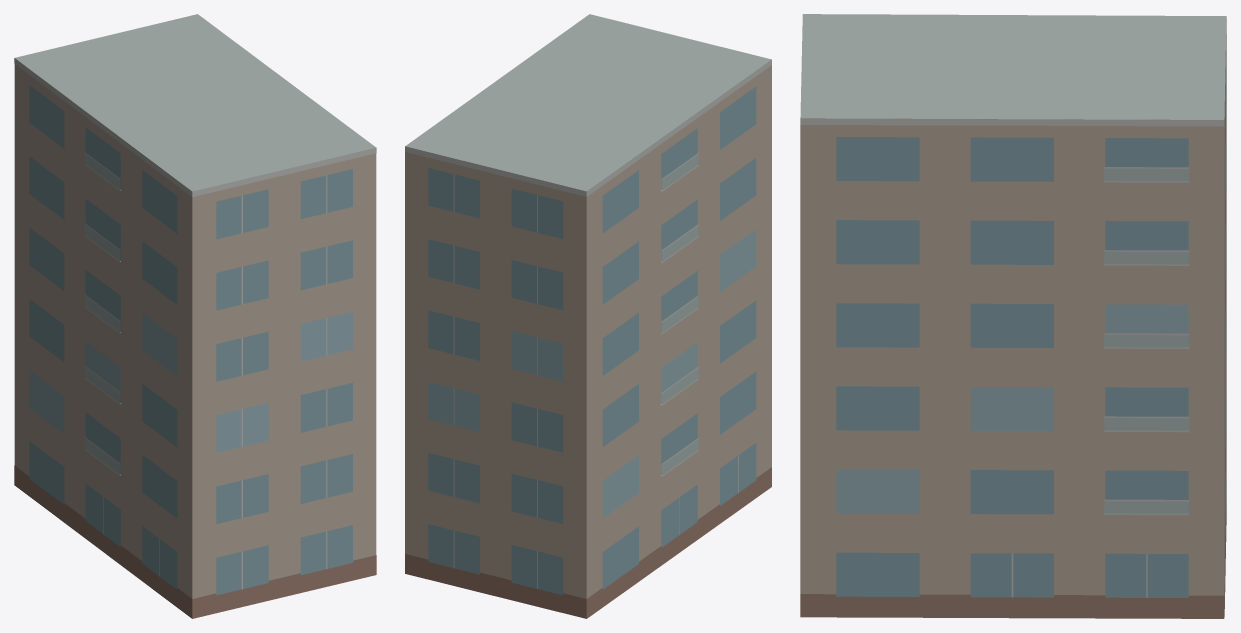
Rendered from survey-upis-32951215.glb.
3 renders of one model, left to right at view 1: azimuth 30°, elevation 25°; view 2: azimuth 150°, elevation 25°; view 3: azimuth 270°, elevation 25°, orthographic. The views are drawn at different scales.
Visible parts, largest first — view 1: survey-upis-32951215.tmp; view 2: survey-upis-32951215.tmp; view 3: survey-upis-32951215.tmp.
Part boxes in pixels (x1,y1,x2,y2): survey-upis-32951215.tmp: (14, 14, 376, 618); survey-upis-32951215.tmp: (405, 14, 771, 618); survey-upis-32951215.tmp: (800, 14, 1226, 618).
Size of the model in its own units: 8.55 by 18.7 by 14.49.
